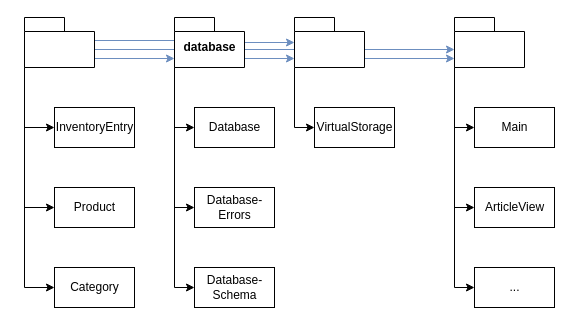
Some shapes in this 572 by 325 pixel diagram are drawn without their labels. Here are the shapes that lost their labels. From the top down, the centre of each, then its label:
At pixel 59 42: "basic classes".
At pixel 329 42: "controller".
At pixel 489 42: "view".
